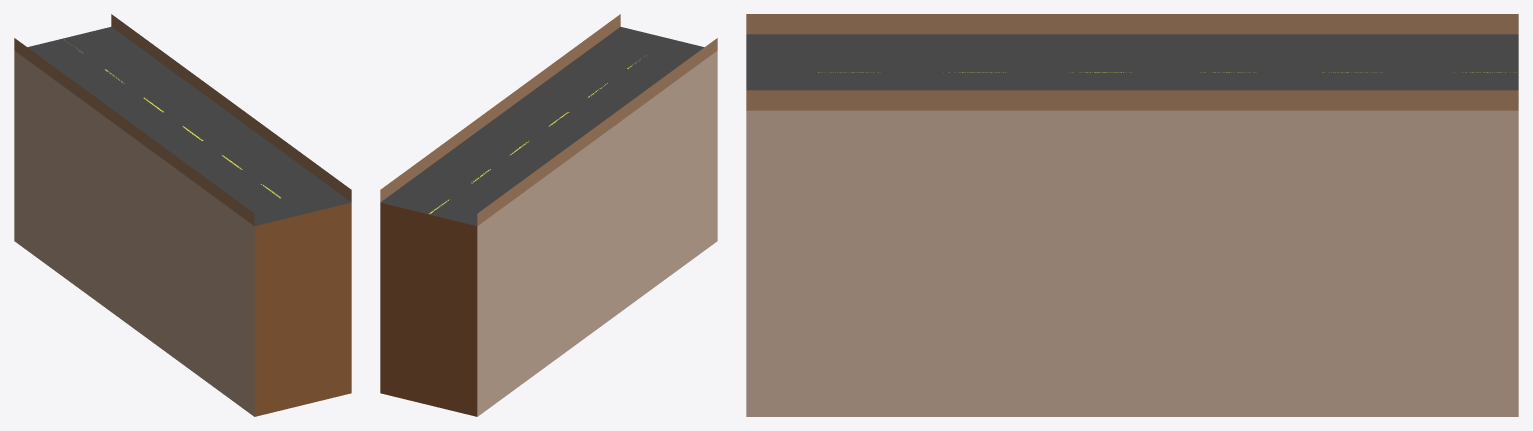
The model's file is selr.obj.
The picture shows the model from 3 angles, left to right: view 1: azimuth 30°, elevation 25°; view 2: azimuth 150°, elevation 25°; view 3: azimuth 270°, elevation 25°; orthographic projection. The views are drawn at different scales.
Bounding box in the file's own units: 240 × 480 × 1028.
